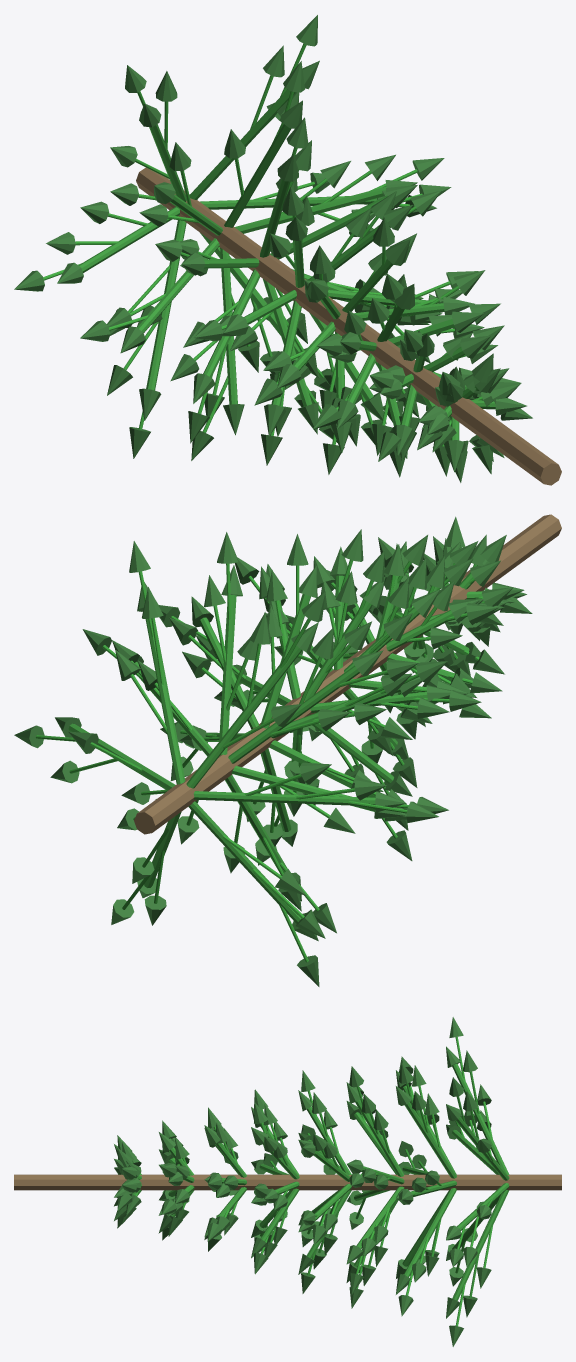
Rendered from pine-3d.glb.
The picture shows the model from 3 angles, top to bottom: view 1: azimuth 30°, elevation 25°; view 2: azimuth 150°, elevation 25°; view 3: azimuth 270°, elevation 25°; orthographic projection. The views are drawn at different scales.
Visible parts, largest first — view 1: world; view 2: world; view 3: world.
Part boxes in pixels (left/top/right/bottom): world: left=14, top=15, right=561, bottom=485; world: left=14, top=514, right=561, bottom=986; world: left=14, top=1017, right=561, bottom=1346.
Size of the model in its own units: 6.34 by 5.73 by 10.5.
